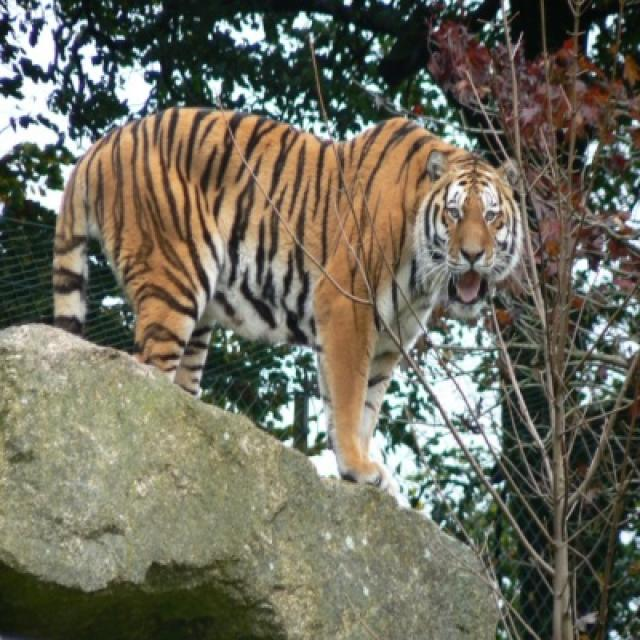Tiger: (54, 107, 518, 490)
